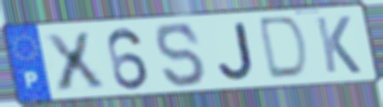6: (105, 25, 151, 92)
D: (258, 14, 311, 82)
J: (215, 20, 257, 82)
K: (312, 14, 364, 75)
S: (153, 21, 209, 90)
X: (41, 30, 108, 94)
